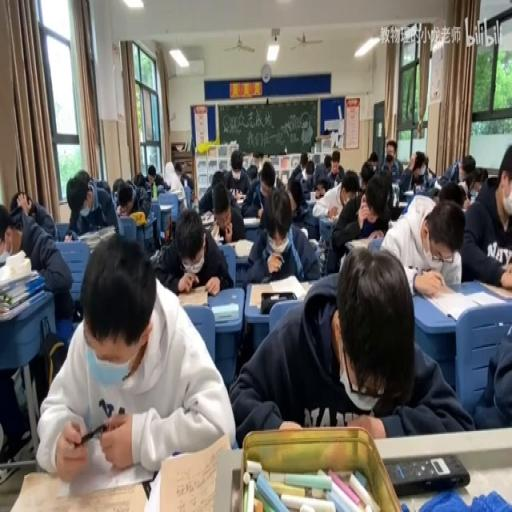calculator: (149, 431, 232, 512), (6, 466, 150, 510), (418, 283, 501, 323), (248, 276, 306, 309), (177, 284, 208, 308), (212, 301, 238, 323), (86, 228, 114, 248), (232, 236, 254, 258), (346, 235, 375, 250), (299, 279, 314, 294), (200, 209, 214, 225), (243, 214, 261, 224), (0, 250, 10, 267), (232, 193, 246, 205), (210, 222, 219, 240), (392, 184, 399, 206), (468, 189, 478, 201), (168, 188, 182, 196), (159, 202, 173, 210), (398, 199, 408, 209), (432, 179, 442, 189), (308, 192, 317, 202), (404, 189, 414, 196), (216, 236, 223, 243)
paper: (38, 230, 232, 478), (229, 245, 469, 438), (0, 196, 72, 340), (237, 184, 321, 290), (380, 189, 464, 289), (460, 144, 512, 288), (157, 208, 232, 297), (330, 169, 394, 273), (472, 312, 512, 426), (66, 168, 122, 234), (398, 150, 434, 196), (222, 150, 250, 196), (379, 139, 402, 185), (314, 150, 340, 188), (436, 182, 466, 208), (437, 155, 462, 185), (146, 164, 168, 192), (298, 159, 316, 192), (10, 189, 32, 215), (260, 160, 275, 190), (341, 181, 358, 206), (0, 212, 12, 243), (93, 176, 111, 196), (179, 170, 193, 194), (288, 188, 301, 213), (112, 176, 125, 199), (461, 158, 474, 180), (210, 171, 226, 186), (134, 172, 147, 189), (366, 151, 378, 168), (246, 164, 258, 179), (478, 166, 488, 184), (486, 175, 498, 188), (316, 182, 327, 196), (173, 162, 182, 179), (413, 170, 423, 184), (422, 155, 428, 171), (324, 164, 330, 172)
person: (385, 452, 470, 494)
